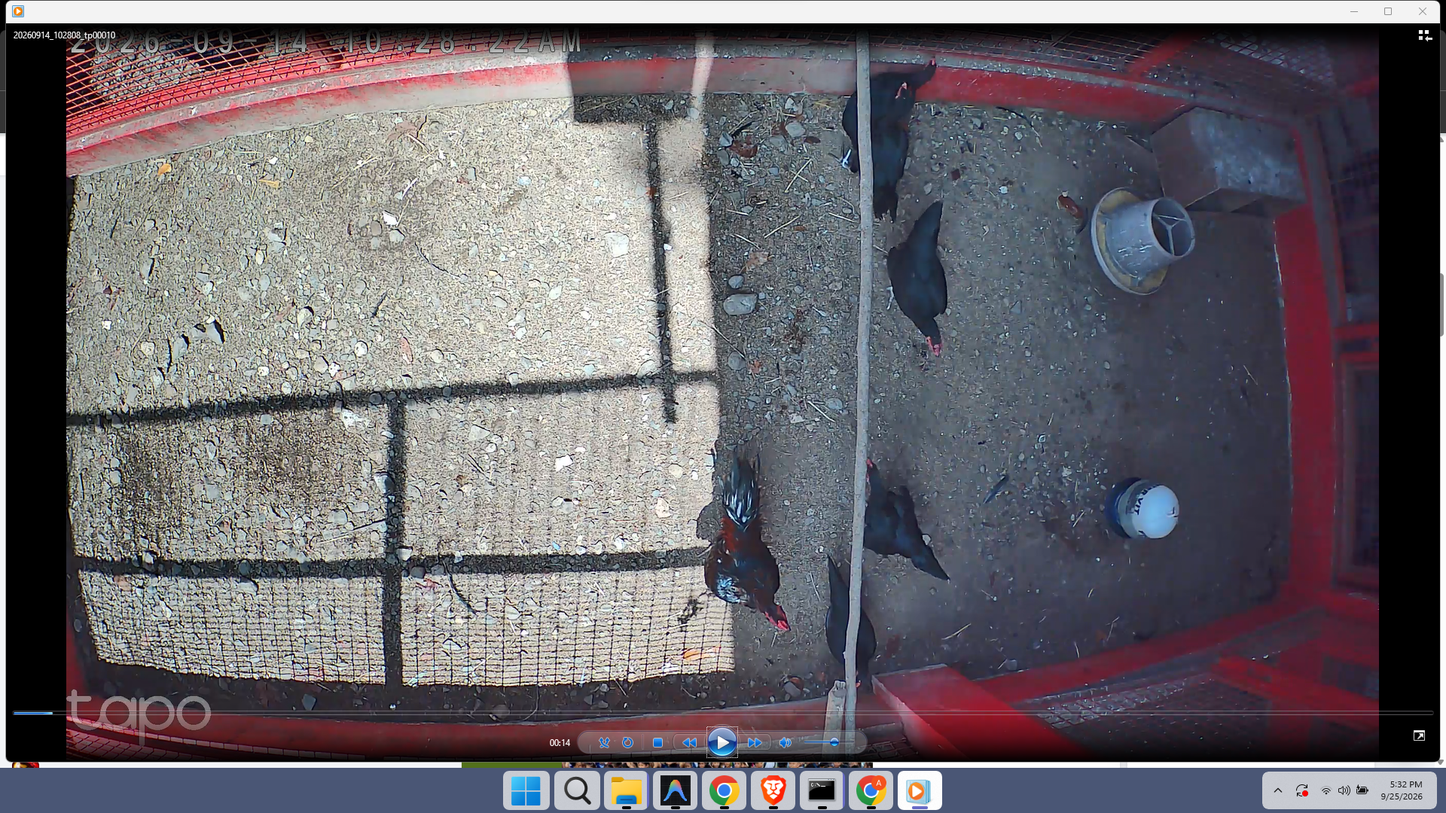Chicken: (830, 78, 915, 226), (864, 456, 955, 586), (884, 191, 951, 354), (823, 52, 939, 144), (816, 549, 881, 698)
Drinker: (1102, 476, 1181, 541)
Feeder: (1086, 184, 1199, 297)
Leg_Band_White: (841, 145, 852, 170)
Rooster: (693, 445, 796, 636)
